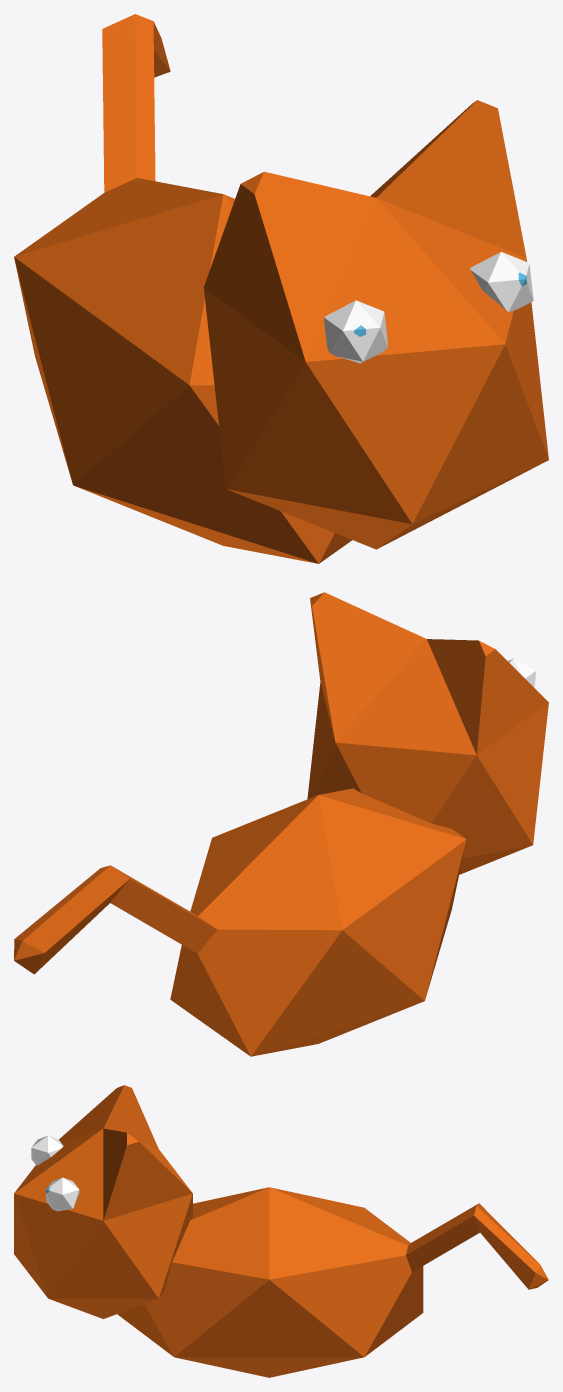
Rendered from Cat.fbx.
The picture shows the model from 3 angles, top to bottom: view 1: azimuth 30°, elevation 25°; view 2: azimuth 150°, elevation 25°; view 3: azimuth 270°, elevation 25°; orthographic projection. The views are drawn at different scales.
Visible parts, largest first — view 1: Icosphere.001, Icosphere, Icosphere.002, Icosphere.003; view 2: Icosphere, Icosphere.001; view 3: Icosphere, Icosphere.001, Icosphere.003, Icosphere.002.
Part boxes in pixels (left/top/right/bottom): Icosphere.001: left=203, top=100, right=548, bottom=549; Icosphere: left=14, top=14, right=352, bottom=563; Icosphere.002: left=323, top=300, right=387, bottom=363; Icosphere.003: left=470, top=252, right=533, bottom=311; Icosphere: left=14, top=788, right=466, bottom=1056; Icosphere.001: left=307, top=592, right=548, bottom=874; Icosphere: left=117, top=1187, right=548, bottom=1377; Icosphere.001: left=14, top=1085, right=192, bottom=1318; Icosphere.003: left=46, top=1177, right=79, bottom=1211; Icosphere.002: left=31, top=1135, right=63, bottom=1165.
Bounding box in the file's own units: 200 × 291 × 509.
